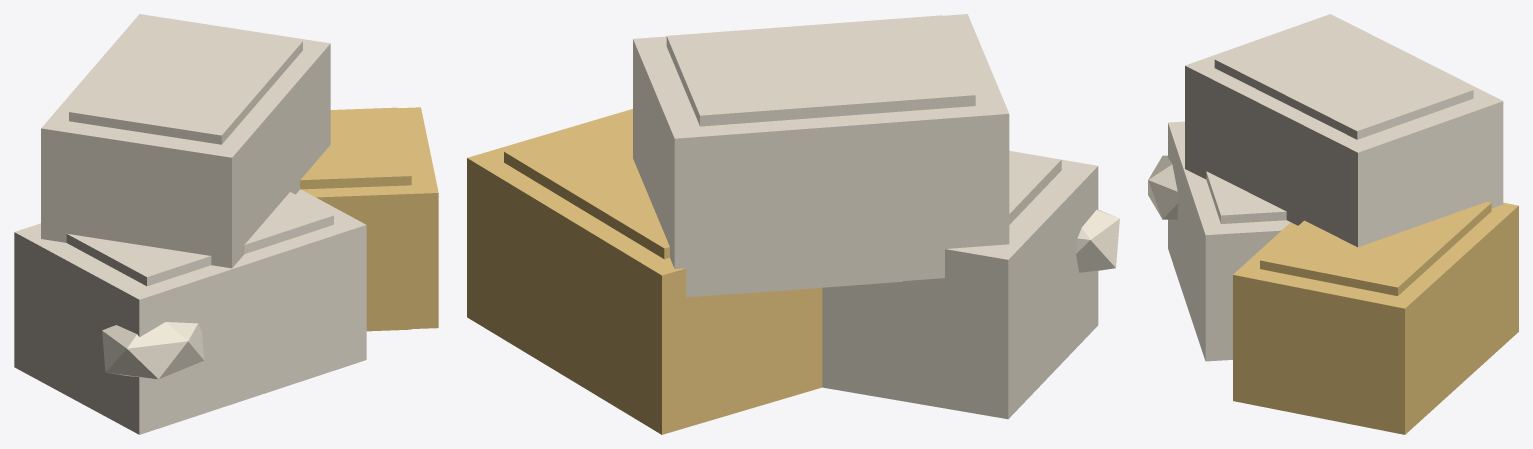
The model's file is gordura.glb.
3 renders of one model, left to right at view 1: azimuth 30°, elevation 25°; view 2: azimuth 150°, elevation 25°; view 3: azimuth 270°, elevation 25°, orthographic. The views are drawn at different scales.
Visible parts, largest first — view 1: gordura; view 2: gordura; view 3: gordura.
Part boxes in pixels (<box>): gordura: <box>14,14,438,434</box>; gordura: <box>467,14,1119,434</box>; gordura: <box>1148,14,1518,434</box>.
Bounding box in the file's own units: 0.1475 × 0.086 × 0.1171.
